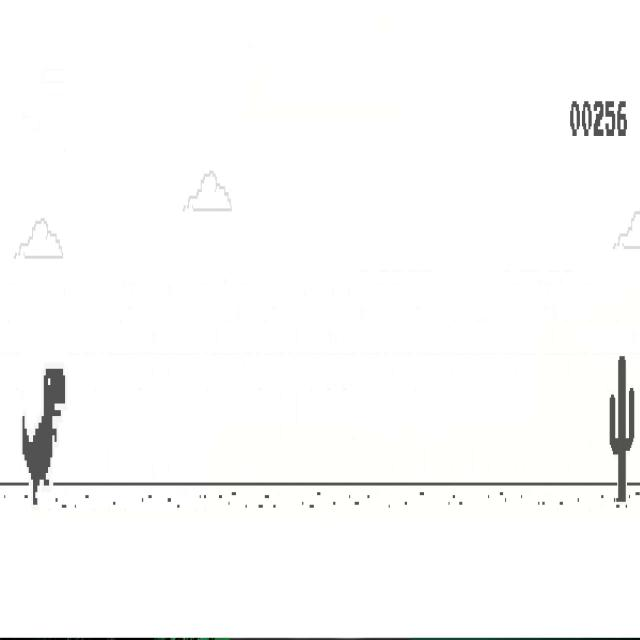cacto: (609, 354, 635, 502)
dino: (22, 368, 65, 506)
